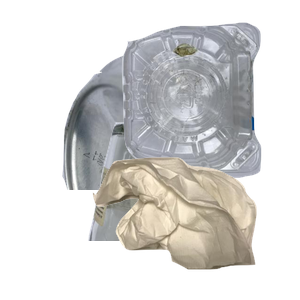glass: (86, 120, 277, 300)
metal: (60, 44, 300, 224)
plastic: (119, 20, 300, 190)
trash: (90, 155, 300, 300)
